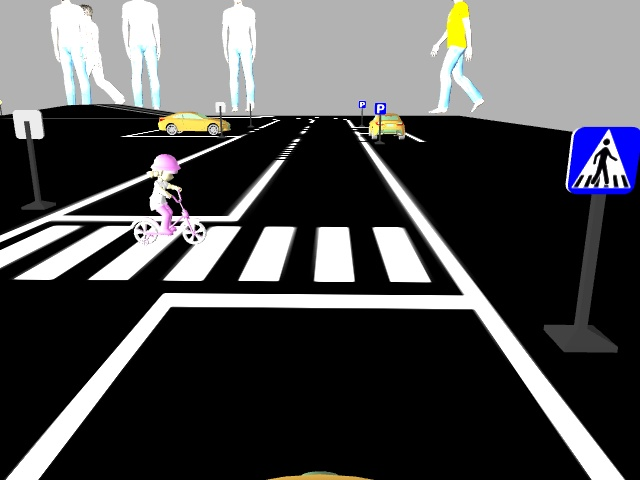Crosswalk: (564, 127, 639, 196)
Parking: (373, 101, 385, 116), (357, 98, 366, 108)
Pedestrian: (121, 152, 208, 246)
